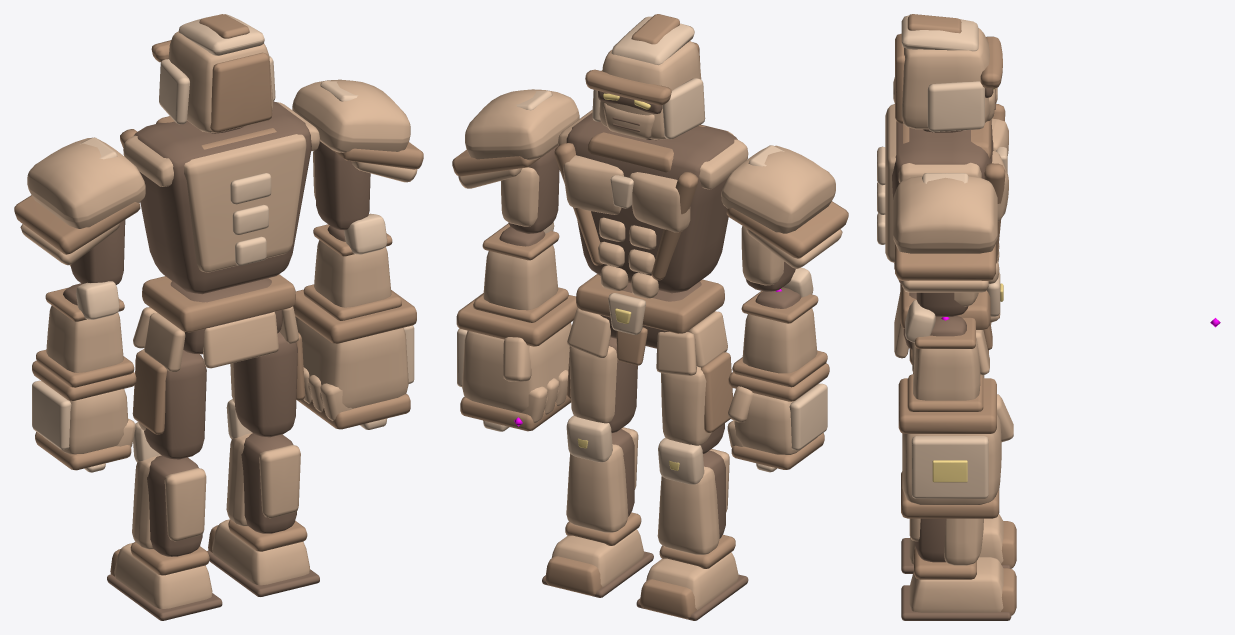
Rendered from BrickFist.glb.
The picture shows the model from 3 angles, left to right: view 1: azimuth 30°, elevation 25°; view 2: azimuth 150°, elevation 25°; view 3: azimuth 270°, elevation 25°; orthographic projection. The views are drawn at different scales.
Parts seen in each view (by area): view 1: UpperTorso__Clay, UpperTorso__Core, LeftUpperArm__Clay, RightHand__Clay, RightUpperArm__Clay, LowerTorso__Clay, Head__Trim, RightUpperLeg__Core, RightHand__Trim, LowerTorso__Trim, LeftUpperLeg__Core, LeftLowerLeg__Clay (+30 smaller); view 2: UpperTorso__Clay, UpperTorso__Core, LeftUpperArm__Clay, RightUpperArm__Clay, RightHand__Clay, UpperTorso__Trim, LowerTorso__Trim, LowerTorso__Clay, RightLowerLeg__Clay, LeftLowerLeg__Clay, RightHand__Trim, Head__Clay (+34 smaller); view 3: RightUpperArm__Clay, RightHand__Trim, Head__ClayLight, Head__Clay, RightHand__ClayLight, RightFoot__Clay, UpperTorso__Clay, RightLowerArm__Clay, UpperTorso__Core, RightUpperArm__Trim, RightHand__Clay, Head__Trim (+15 smaller).
Part boxes in pixels (x1,y1,x2,y2): UpperTorso__Clay: (123,102,319,272); UpperTorso__Core: (134,101,311,294); LeftUpperArm__Clay: (20,138,145,265); RightHand__Clay: (295,316,408,420); RightUpperArm__Clay: (292,79,417,198); LowerTorso__Clay: (133,306,298,371); Head__Trim: (151,14,272,132); RightUpperLeg__Core: (233,332,297,437); RightHand__Trim: (293,289,416,429); LowerTorso__Trim: (142,274,295,332); LeftUpperLeg__Core: (144,350,206,459); LeftLowerLeg__Clay: (132,455,206,549); UpperTorso__Clay: (558,109,748,298); UpperTorso__Core: (566,112,737,293); LeftUpperArm__Clay: (721,145,842,285); RightUpperArm__Clay: (458,89,579,226); RightHand__Clay: (462,322,571,422); UpperTorso__Trim: (554,125,705,280); LowerTorso__Trim: (576,274,724,365); LowerTorso__Clay: (567,308,727,375); RightLowerLeg__Clay: (566,427,638,532); LeftLowerLeg__Clay: (657,449,729,554); RightHand__Trim: (456,293,577,431); Head__Clay: (599,41,701,139); RightUpperArm__Clay: (893,176,997,306); RightHand__Trim: (898,378,999,518); Head__ClayLight: (901,15,984,132); Head__Clay: (901,28,995,129); RightHand__ClayLight: (911,436,988,498); RightFoot__Clay: (909,557,1003,612); UpperTorso__Clay: (885,104,1008,283); RightLowerArm__Clay: (913,338,980,400); UpperTorso__Core: (892,119,993,284); RightUpperArm__Trim: (895,243,995,280); RightHand__Clay: (902,394,1013,504); Head__Trim: (895,14,1002,123).
Size of the model in its own units: 4.64 by 6.93 by 3.82.
